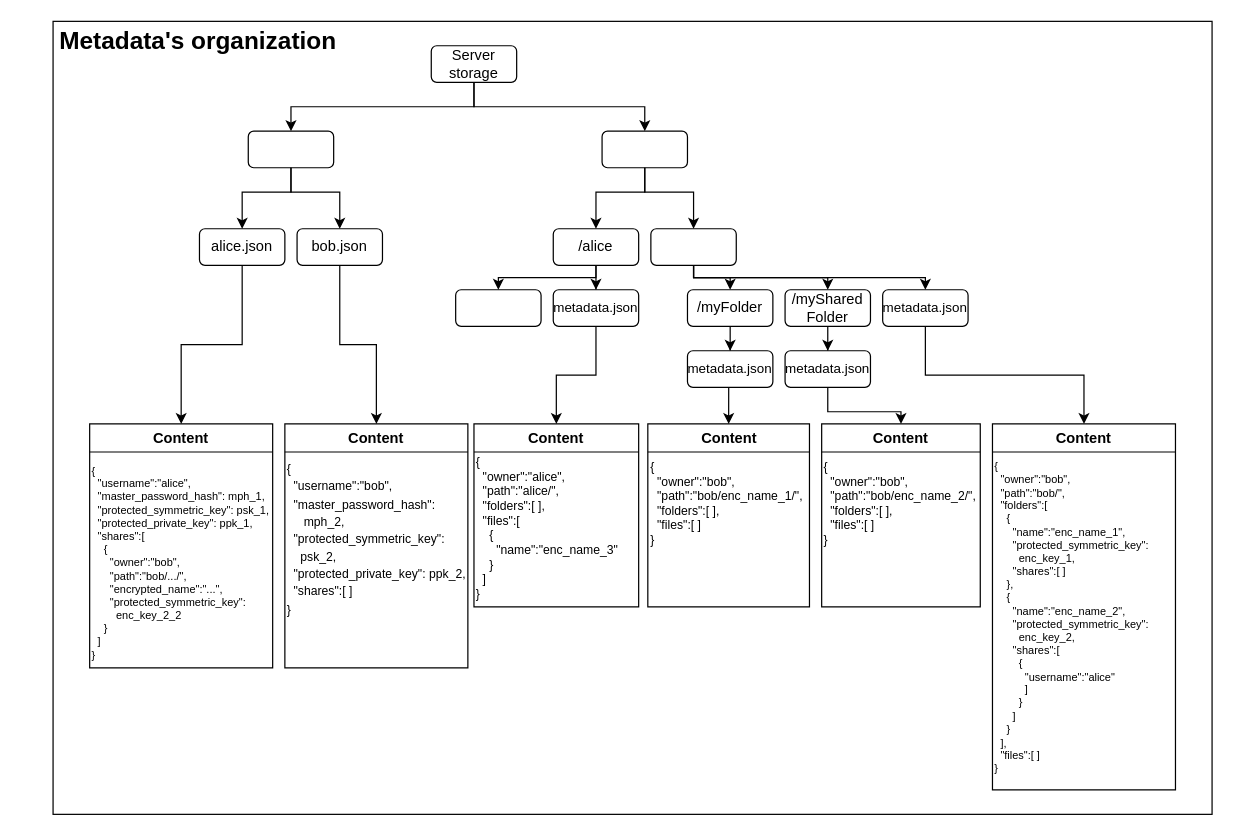
Some shapes in this 1233 by 836 pixel diagram are drawn without their labels. The centre of each missing label's shape, as x and y in pixels:
"/bob" goes at (x=693, y=246).
"/root_folders" goes at (x=644, y=149).
"/users" goes at (x=290, y=149).
"myFile.txt" goes at (x=497, y=307).
